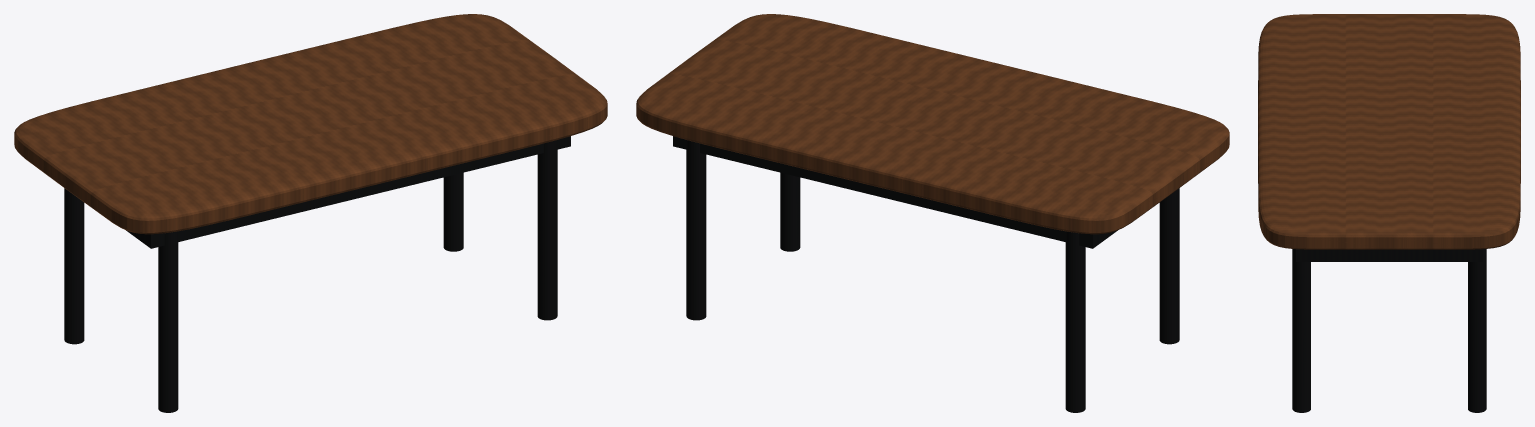
The model's file is dining-table-1800.glb.
3 views of the same model, side by side, from view 1: azimuth 30°, elevation 25°; view 2: azimuth 150°, elevation 25°; view 3: azimuth 270°, elevation 25° (orthographic). The views are drawn at different scales.
Parts seen in each view (by area): view 1: top, apron, leg_3, leg_4, leg_1, leg_2; view 2: top, apron, leg_1, leg_2, leg_3, leg_4; view 3: top, leg_4, leg_2, apron.
Boxes of the visible parts, bbox=[...] form: top: bbox=[14, 14, 607, 234]; apron: bbox=[126, 136, 570, 248]; leg_3: bbox=[158, 231, 178, 412]; leg_4: bbox=[537, 140, 557, 320]; leg_1: bbox=[64, 188, 84, 344]; leg_2: bbox=[443, 172, 463, 251]; top: bbox=[636, 14, 1229, 234]; apron: bbox=[673, 136, 1117, 248]; leg_1: bbox=[1065, 231, 1085, 412]; leg_2: bbox=[686, 140, 706, 320]; leg_3: bbox=[1159, 188, 1179, 344]; leg_4: bbox=[780, 172, 800, 251]; top: bbox=[1258, 14, 1520, 249]; leg_4: bbox=[1292, 249, 1310, 412]; leg_2: bbox=[1468, 249, 1486, 412]; apron: bbox=[1296, 249, 1482, 261].
Size of the model in its own units: 1.8 by 0.76 by 0.9.
Materials: 2 (2 with a texture image).
